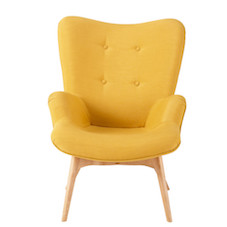chair: (33, 8, 207, 225)
